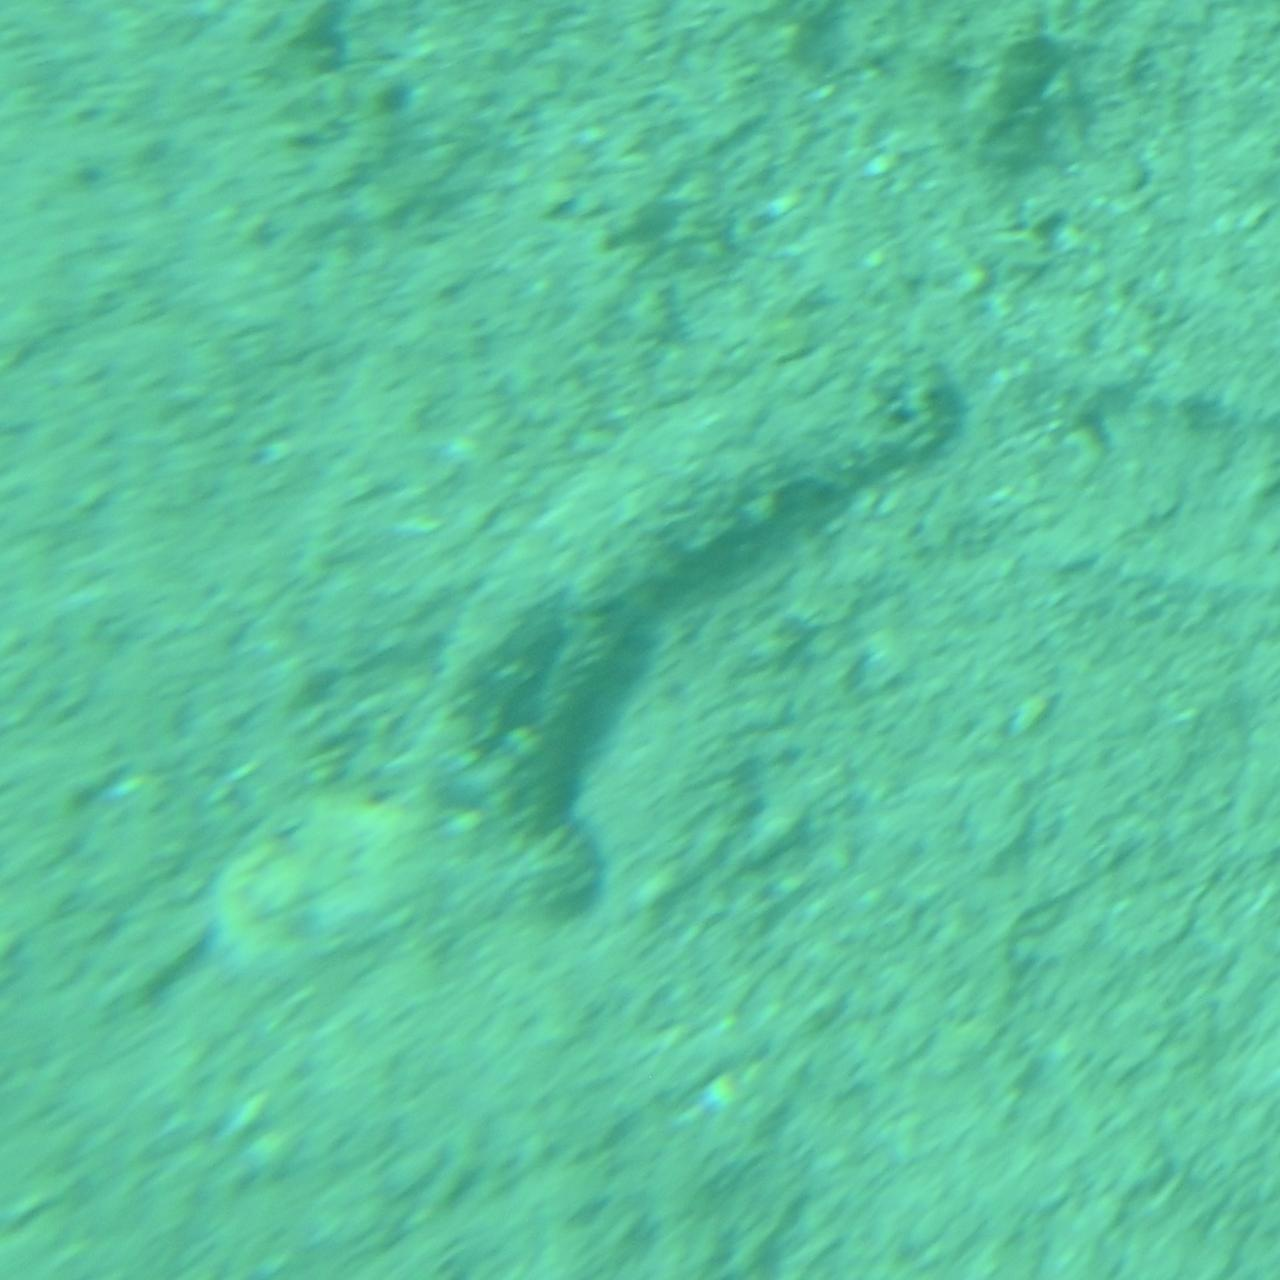Holothuria tubulosa: (215, 327, 966, 953)
